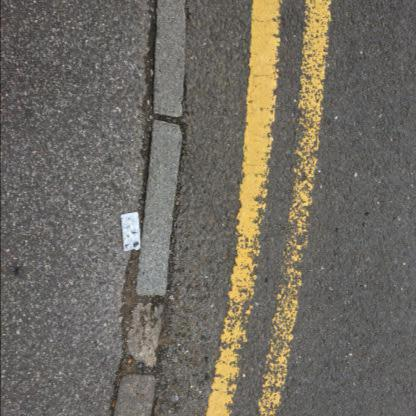Other litter: (120, 212, 140, 251)
